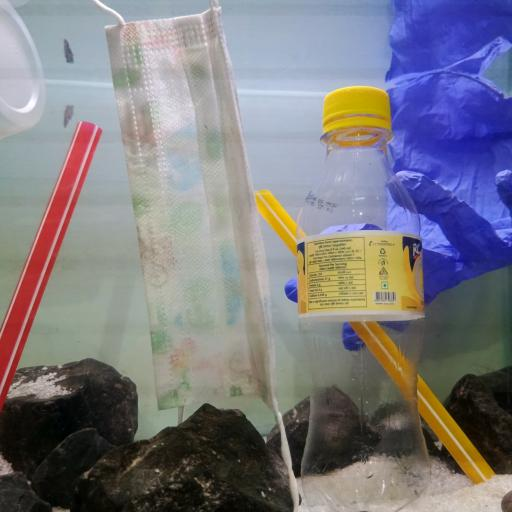bottle_cap: (322, 86, 390, 117)
glove: (283, 35, 512, 349)
mask: (94, 2, 288, 431)
plastic_bottle: (298, 85, 434, 512)
plastic_cup: (0, 4, 50, 136)
plastic_straw: (251, 189, 492, 484), (0, 117, 103, 408)
